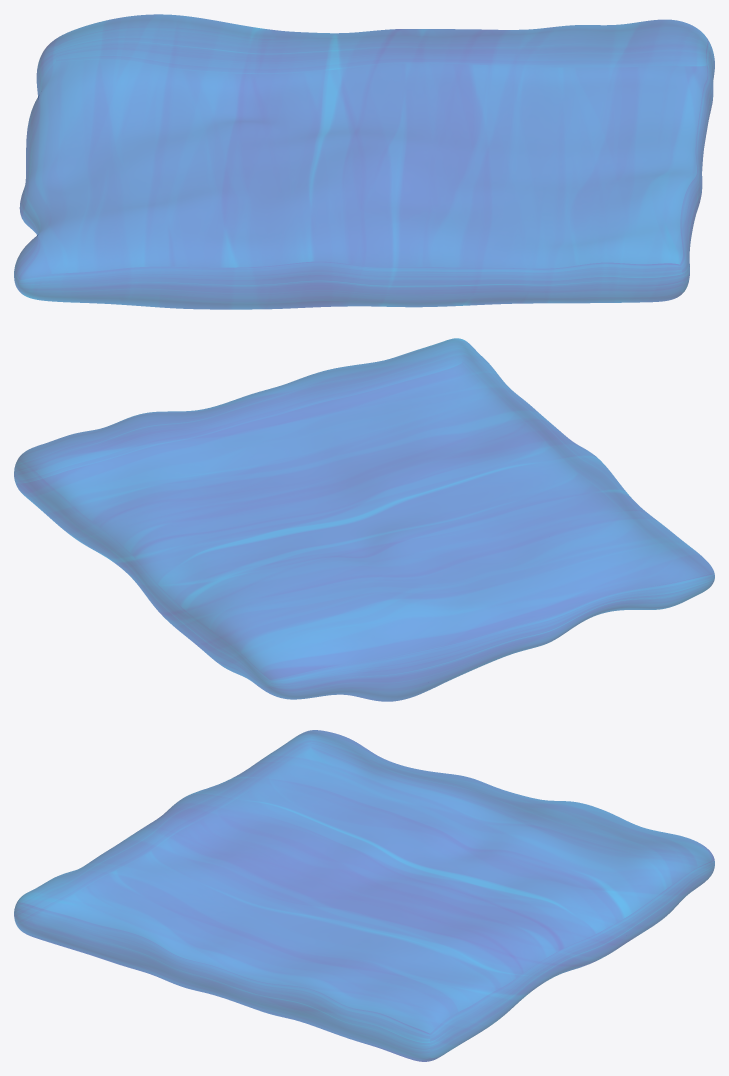
The model's file is Sea.fbx.
The picture shows the model from 3 angles, top to bottom: view 1: azimuth 30°, elevation 25°; view 2: azimuth 150°, elevation 25°; view 3: azimuth 270°, elevation 25°; orthographic projection. The views are drawn at different scales.
Visible parts, largest first — view 1: Subdivision_Surface_1; view 2: Subdivision_Surface_1; view 3: Subdivision_Surface_1.
Boxes of the visible parts, x1=… form: Subdivision_Surface_1: x1=14, y1=14, x2=714, y2=309; Subdivision_Surface_1: x1=14, y1=338, x2=714, y2=701; Subdivision_Surface_1: x1=14, y1=730, x2=714, y2=1061.
Bounding box in the file's own units: 2148 × 328 × 2086.
1 material, 1 textured.
